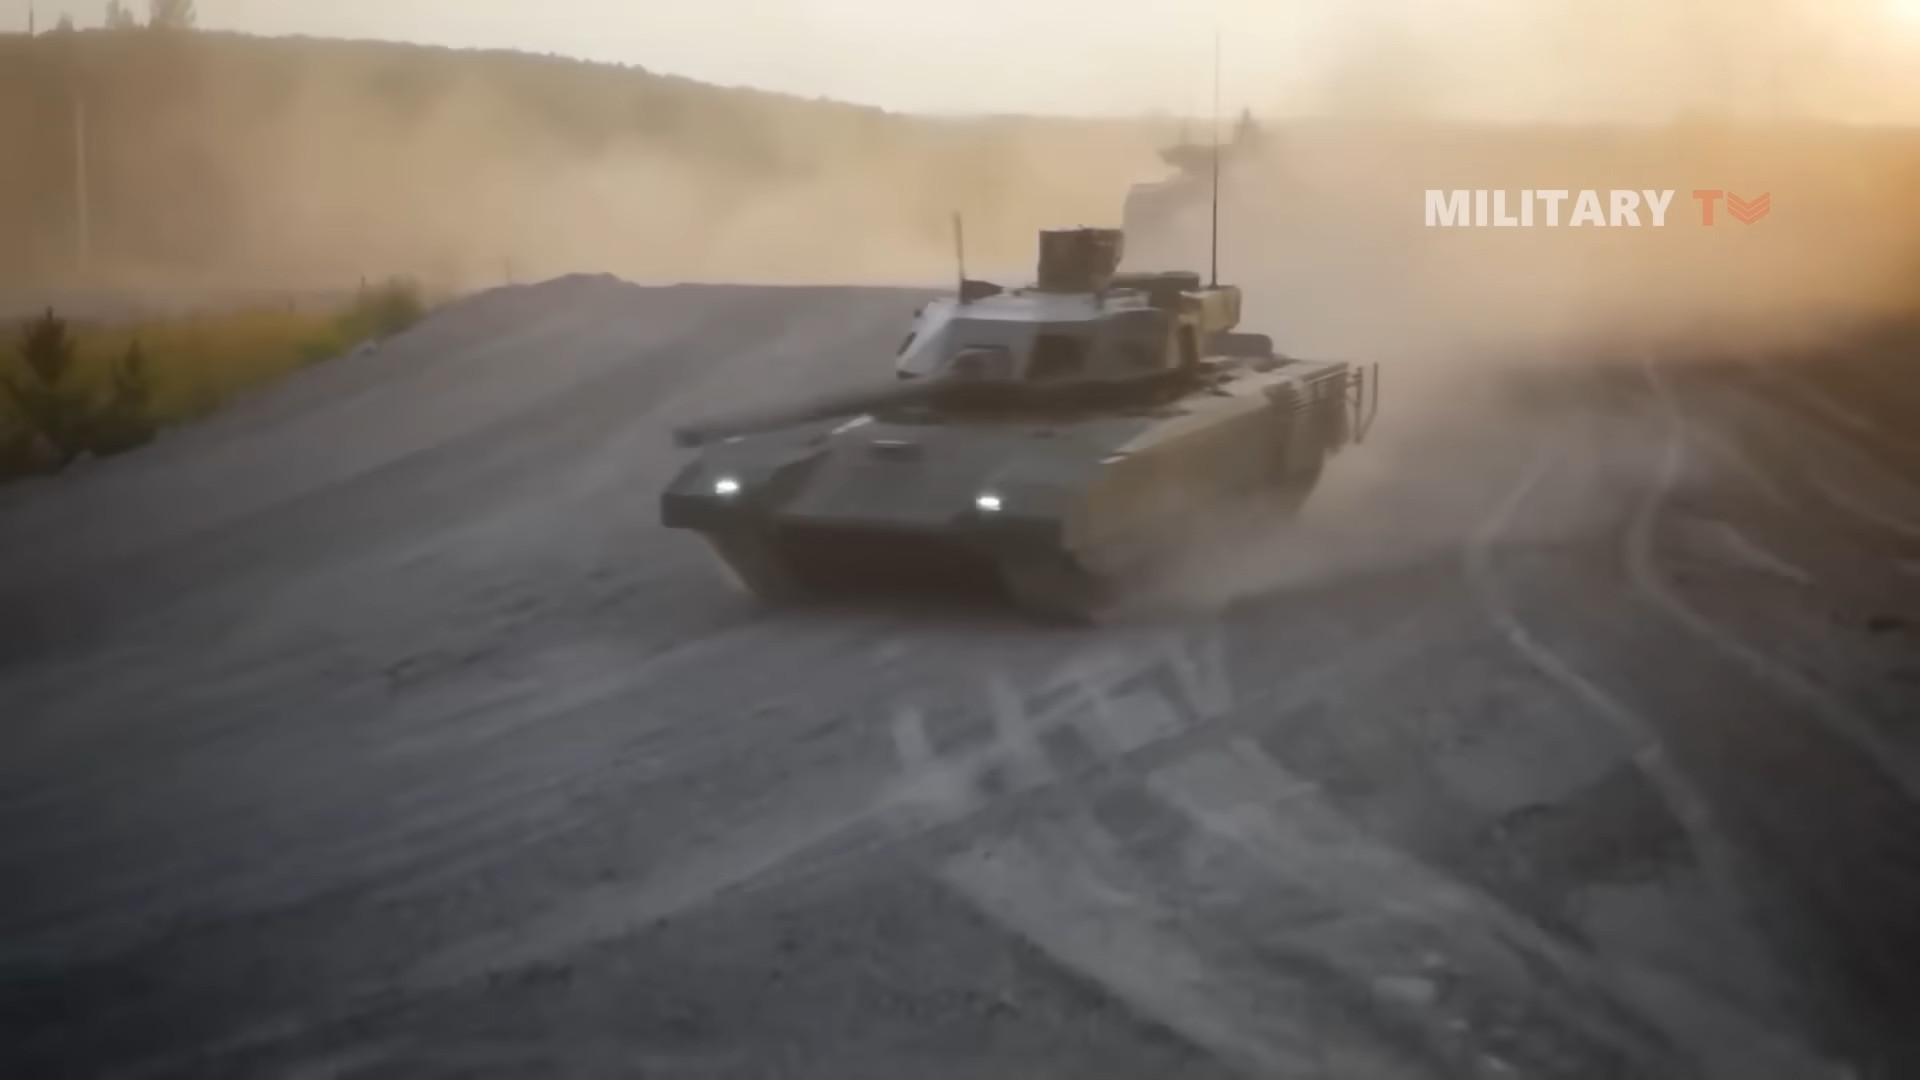tank: (663, 227, 1377, 622)
